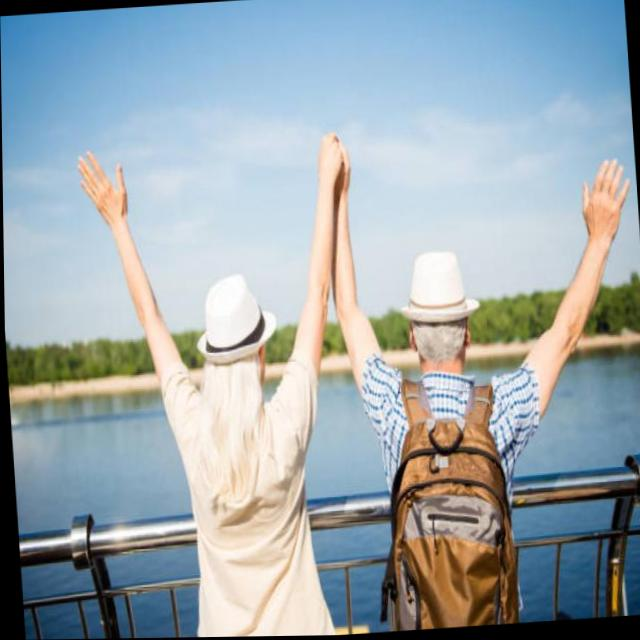no helmet: (187, 263, 288, 415), (392, 241, 493, 385)
